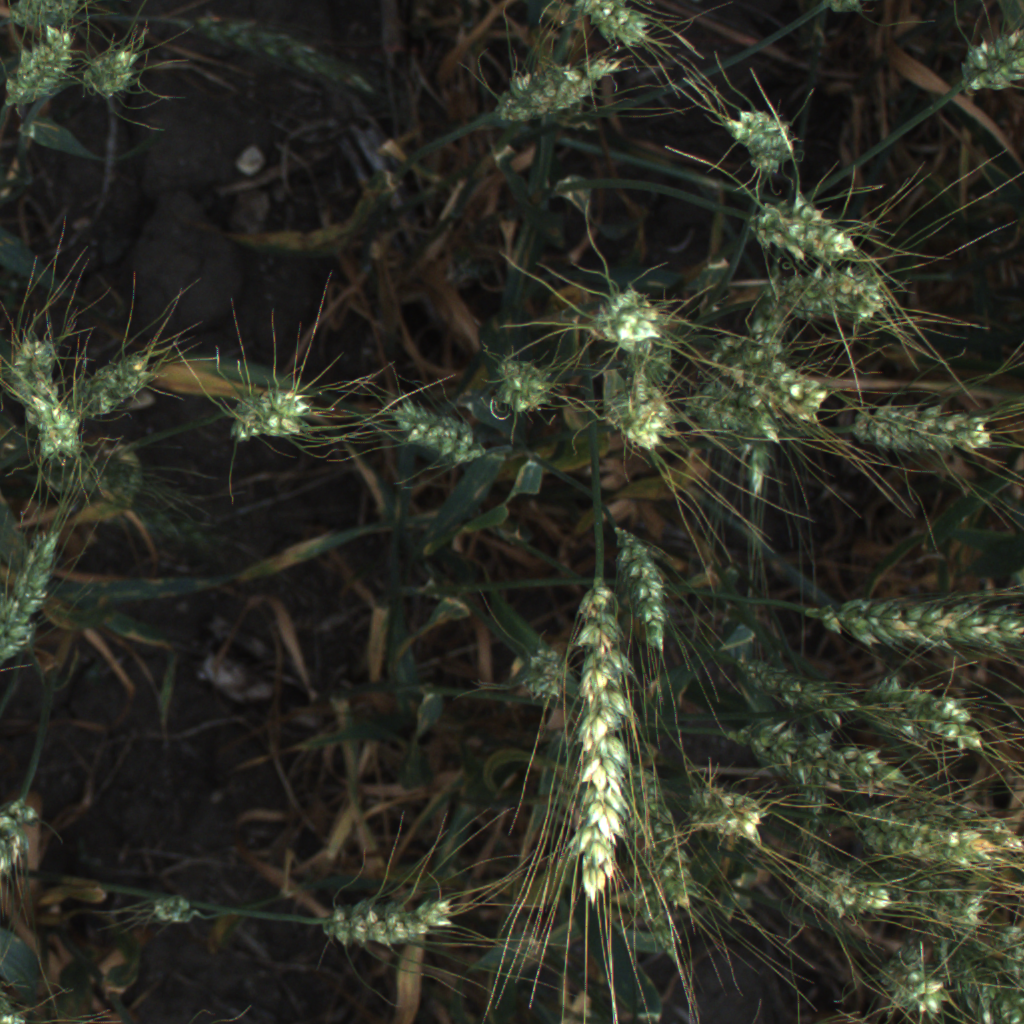wheat_head: (557, 585, 641, 908), (705, 717, 928, 803), (808, 581, 1024, 661), (190, 13, 374, 99), (303, 875, 476, 962), (837, 796, 1019, 869), (622, 748, 695, 916), (704, 87, 817, 187), (492, 53, 630, 131), (852, 394, 1003, 464), (857, 678, 990, 757), (721, 653, 856, 728), (0, 515, 63, 674), (608, 521, 675, 652), (774, 856, 895, 925), (749, 191, 858, 267), (674, 776, 770, 856), (390, 397, 494, 470), (478, 346, 561, 429), (557, 0, 666, 62), (727, 346, 815, 421), (765, 272, 882, 327), (745, 308, 779, 496), (584, 282, 670, 356), (2, 26, 76, 111), (888, 884, 997, 941), (231, 377, 319, 445), (613, 371, 680, 453), (80, 351, 157, 416), (953, 29, 1024, 99), (509, 643, 579, 713), (955, 951, 1024, 1021), (885, 961, 957, 1022), (0, 781, 41, 885), (81, 48, 153, 104), (26, 397, 88, 462), (4, 327, 57, 399), (701, 382, 770, 437), (6, 0, 76, 33), (713, 332, 767, 374), (151, 894, 200, 926), (823, 0, 870, 21), (2, 1009, 31, 1024)
